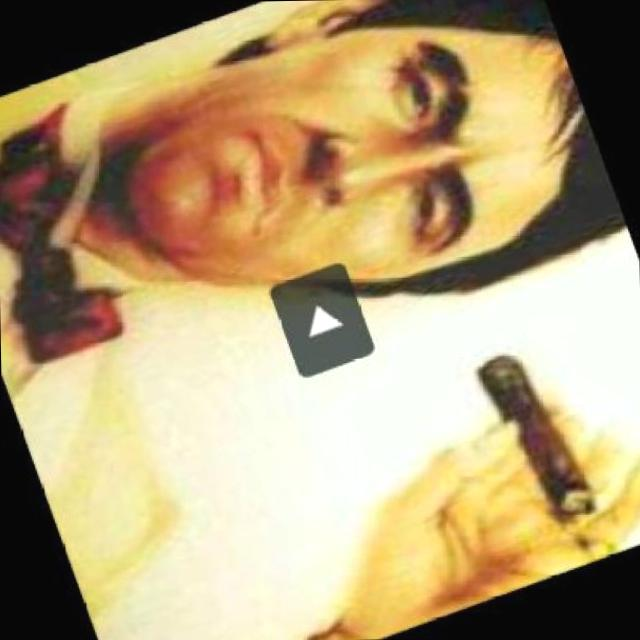smoke: (468, 334, 625, 580)
